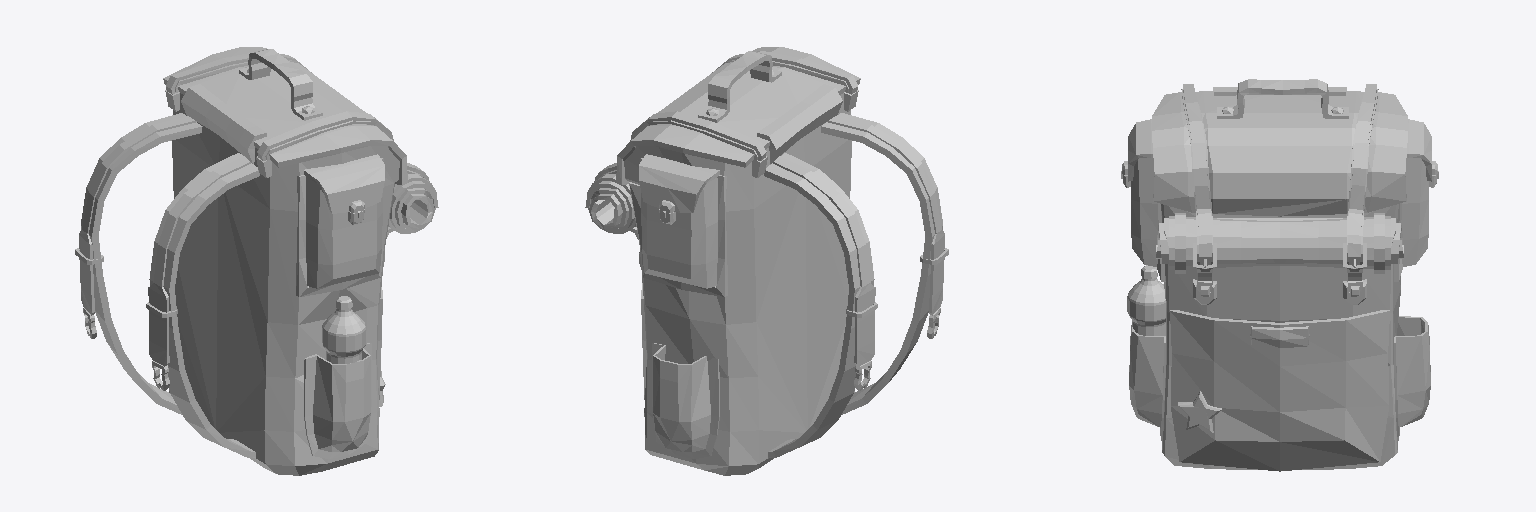
File: backpack.obj
3 views of the same model, side by side, from view 1: azimuth 30°, elevation 25°; view 2: azimuth 150°, elevation 25°; view 3: azimuth 270°, elevation 25° (orthographic).
Visible parts, largest first — view 1: bag_low, bag.003_low, bag.036_low, bag.018_low, bag.041_low, bag.045_low, bag.039_low, bag.019_low, bag.024_low, bag.043_low, bag.006_low, bag.004_low (+5 smaller); view 2: bag_low, bag.003_low, bag.037_low, bag.020_low, bag.045_low, bag.041_low, bag.043_low, bag.021_low, bag.024_low, bag.039_low, bag.006_low, bag.011_low (+4 smaller); view 3: bag.001_low, bag.003_low, bag_low, bag.011_low, bag.037_low, bag.036_low, bag.018_low, bag.020_low, bag.029_low, bag.030_low, bag.006_low, bag.004_low (+8 smaller).
Part boxes in pixels (bbox=[...]): bag_low: bbox=[169, 93, 399, 475]; bag.003_low: bbox=[163, 47, 407, 184]; bag.036_low: bbox=[304, 343, 371, 458]; bag.018_low: bbox=[306, 177, 382, 288]; bag.041_low: bbox=[149, 153, 259, 458]; bag.045_low: bbox=[81, 113, 202, 414]; bag.039_low: bbox=[148, 156, 250, 366]; bag.019_low: bbox=[304, 154, 384, 213]; bag.024_low: bbox=[181, 84, 266, 163]; bag.043_low: bbox=[79, 116, 196, 315]; bag.006_low: bbox=[239, 49, 322, 120]; bag.004_low: bbox=[322, 309, 365, 363]; bag_low: bbox=[624, 93, 854, 475]; bag.003_low: bbox=[616, 47, 860, 184]; bag.037_low: bbox=[652, 343, 719, 458]; bag.020_low: bbox=[641, 178, 717, 288]; bag.045_low: bbox=[764, 153, 874, 458]; bag.041_low: bbox=[821, 113, 942, 414]; bag.043_low: bbox=[773, 156, 875, 366]; bag.021_low: bbox=[639, 154, 719, 212]; bag.024_low: bbox=[757, 84, 842, 163]; bag.039_low: bbox=[827, 116, 944, 315]; bag.006_low: bbox=[698, 51, 781, 122]; bag.011_low: bbox=[585, 181, 634, 232]; bag.001_low: bbox=[1170, 310, 1389, 471]; bag.003_low: bbox=[1152, 91, 1407, 216]; bag_low: bbox=[1161, 204, 1400, 469]; bag.011_low: bbox=[1156, 216, 1403, 269]; bag.037_low: bbox=[1394, 316, 1430, 436]; bag.036_low: bbox=[1129, 325, 1165, 436]; bag.018_low: bbox=[1131, 158, 1158, 266]; bag.020_low: bbox=[1401, 158, 1428, 266]; bag.029_low: bbox=[1183, 84, 1211, 271]; bag.030_low: bbox=[1348, 84, 1376, 271]; bag.006_low: bbox=[1217, 79, 1348, 118]; bag.004_low: bbox=[1127, 277, 1165, 335].
Bounding box in the file's own units: 5.68 × 7.23 × 5.62.